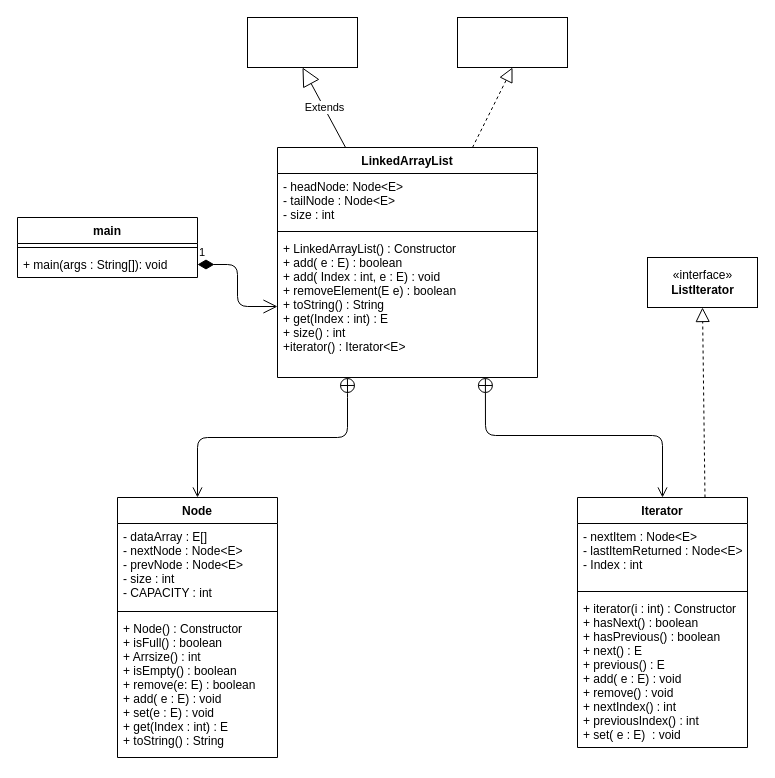
This 775x778 diagram has some shape labels left out. Here are the shapes that lost their labels. From the top down, the centre of each, then its label:
At [302,42]: "AbstarctList".
At [512,42]: "«interface» List".
